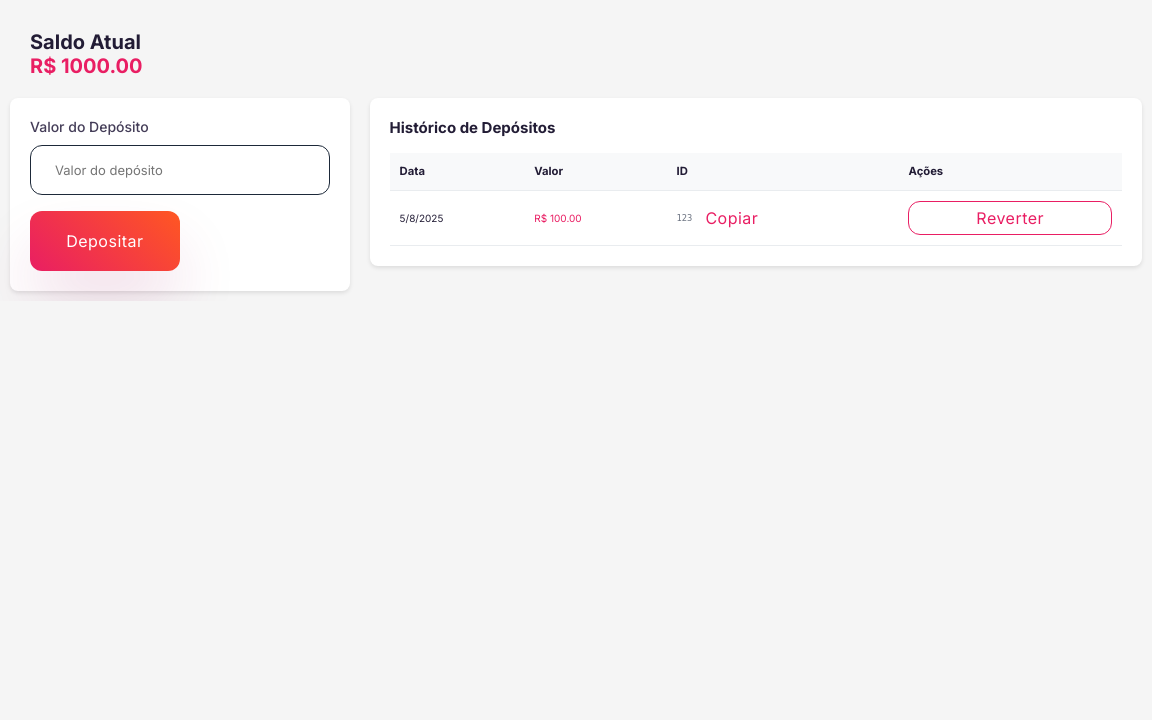
Test case: DepositOperation › deve copiar ID para a área de transferência
Click the button "Copiar" at [732, 218], box [697,202,766,234]
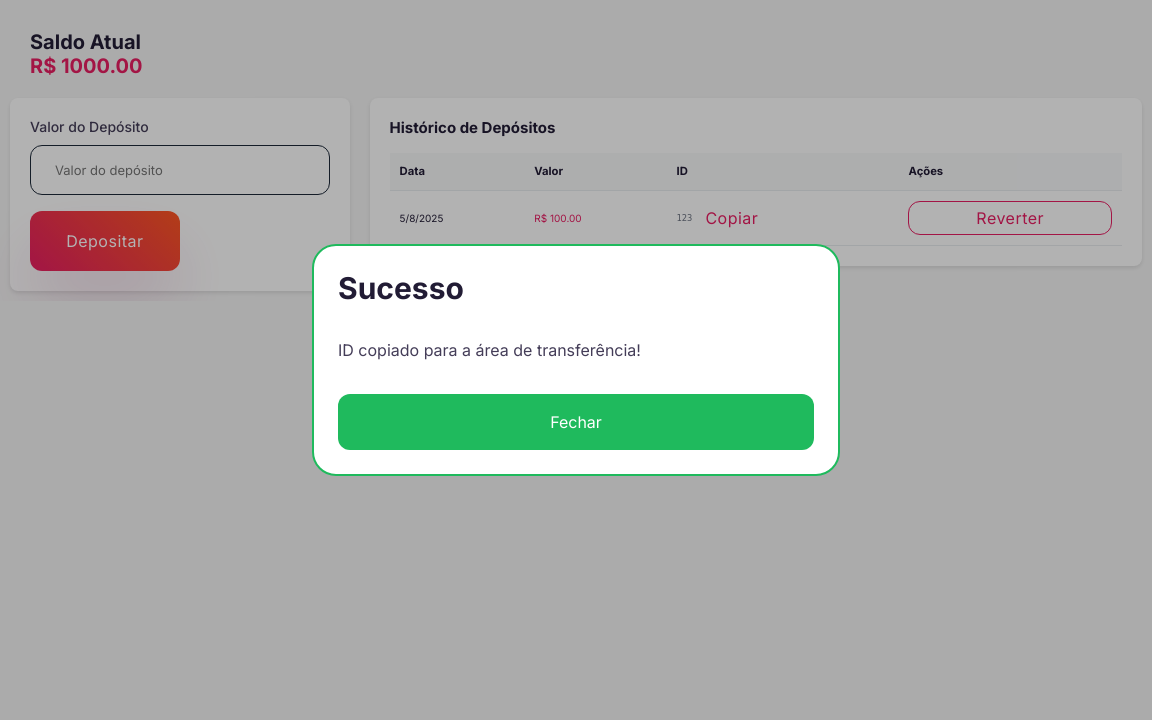
expect the text "ID copiado para a área de transferência!" is shown: met, box [338,340,641,360]
